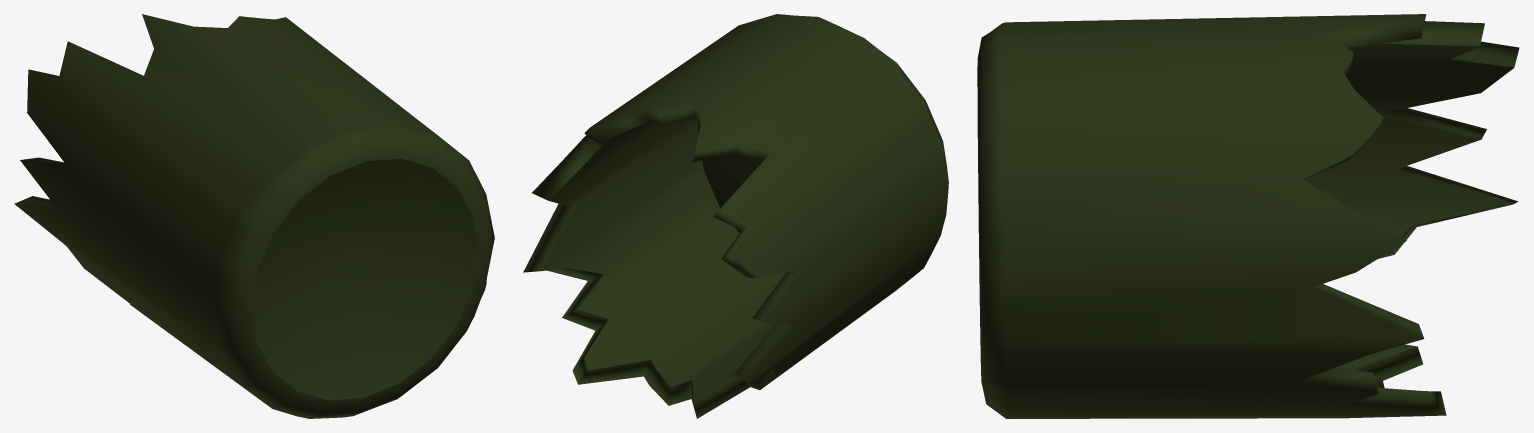
The model's file is Flasche_Grün_kaputt2.fbx.
3 renders of one model, left to right at view 1: azimuth 30°, elevation 25°; view 2: azimuth 150°, elevation 25°; view 3: azimuth 270°, elevation 25°, orthographic. The views are drawn at different scales.
Parts seen in each view (by area): view 1: polySurface3; view 2: polySurface3; view 3: polySurface3.
Part boxes in pixels (x1=…): polySurface3: x1=14, y1=14, x2=494, y2=418; polySurface3: x1=523, y1=14, x2=948, y2=418; polySurface3: x1=977, y1=14, x2=1519, y2=418.
Size of the model in its own units: 22.57 by 22.62 by 30.12.
